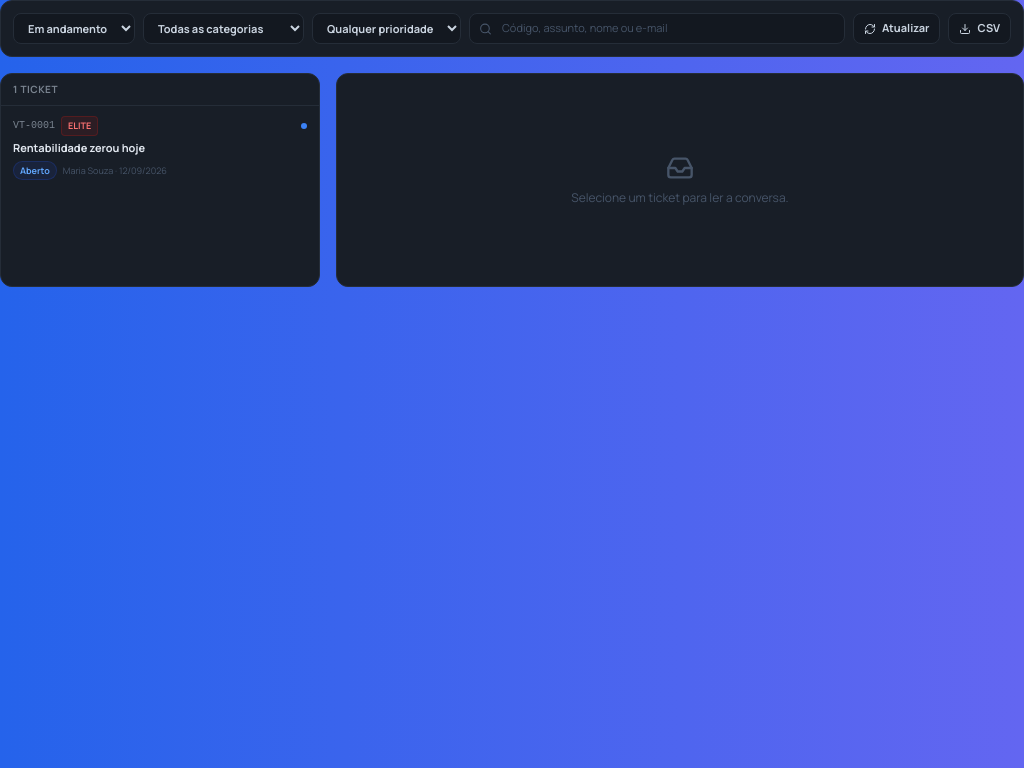
Scenario: exclusão do ticket › confirmar exclui e a tela volta para "selecione um ticket"
The width and height of the screenshot is (1024, 768).
Click the text "Rentabilidade zerou hoje" at (79, 147), box 13,140 -> 145,154
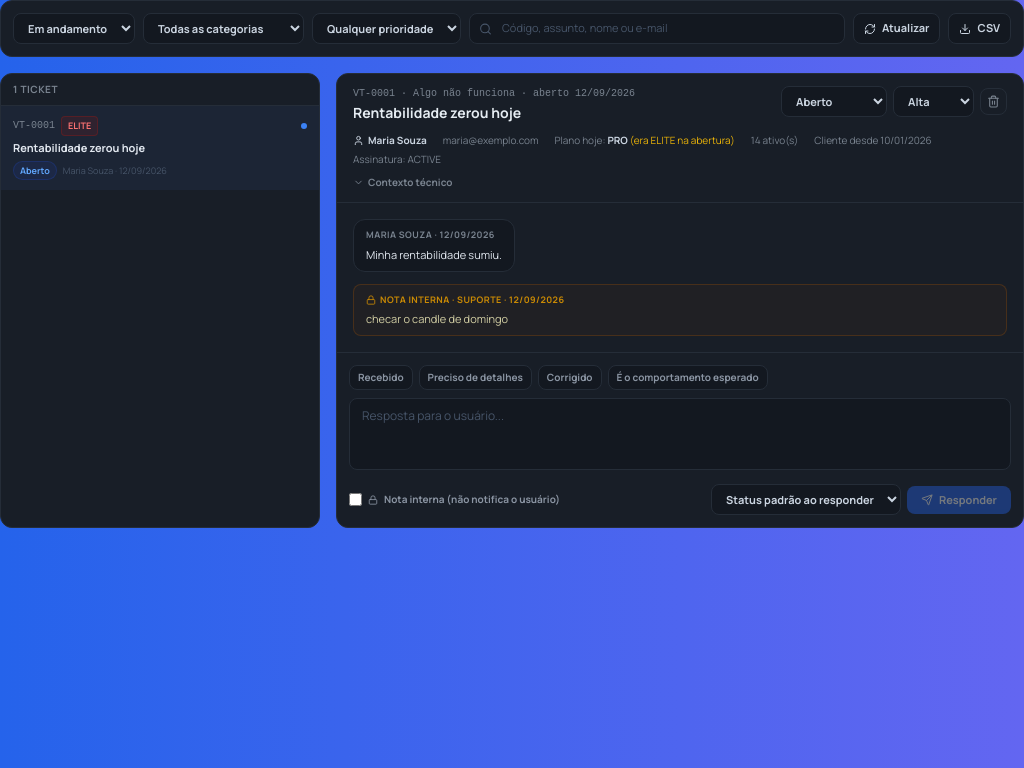
Click the button named "excluir ticket" at (994, 102), box 980,88 -> 1007,115
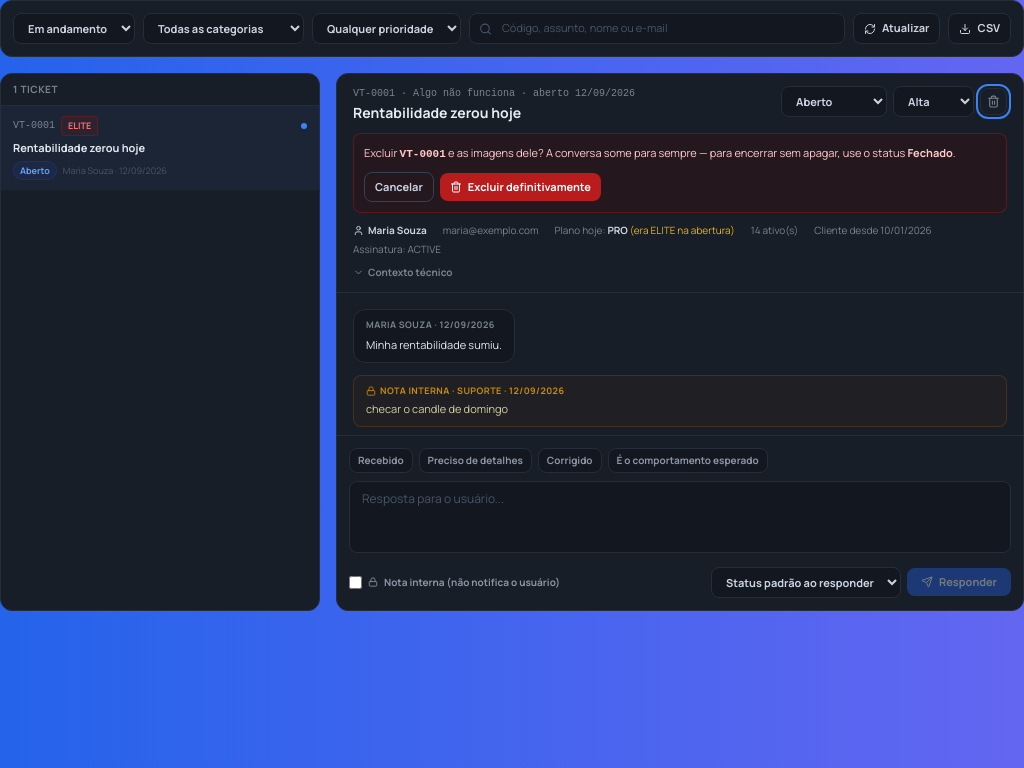
Click the button "Excluir definitivamente" at (520, 187), box 440,173 -> 601,201
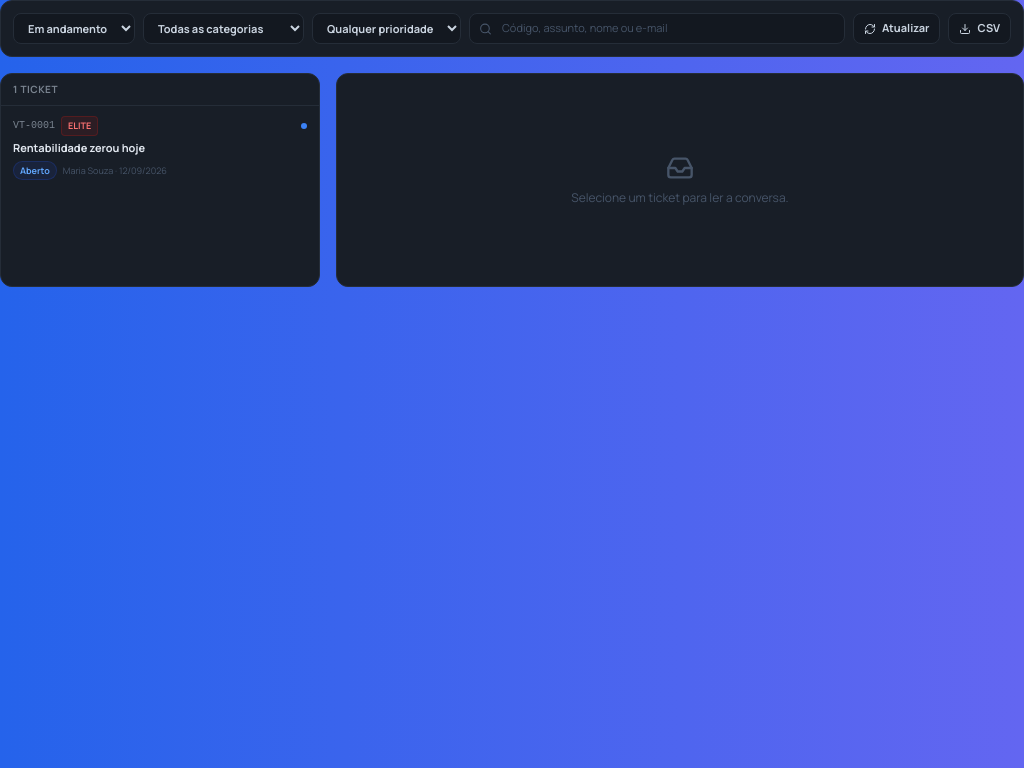
Expected: the text "Selecione um ticket para ler a conversa." is shown, 571,190 -> 789,206
